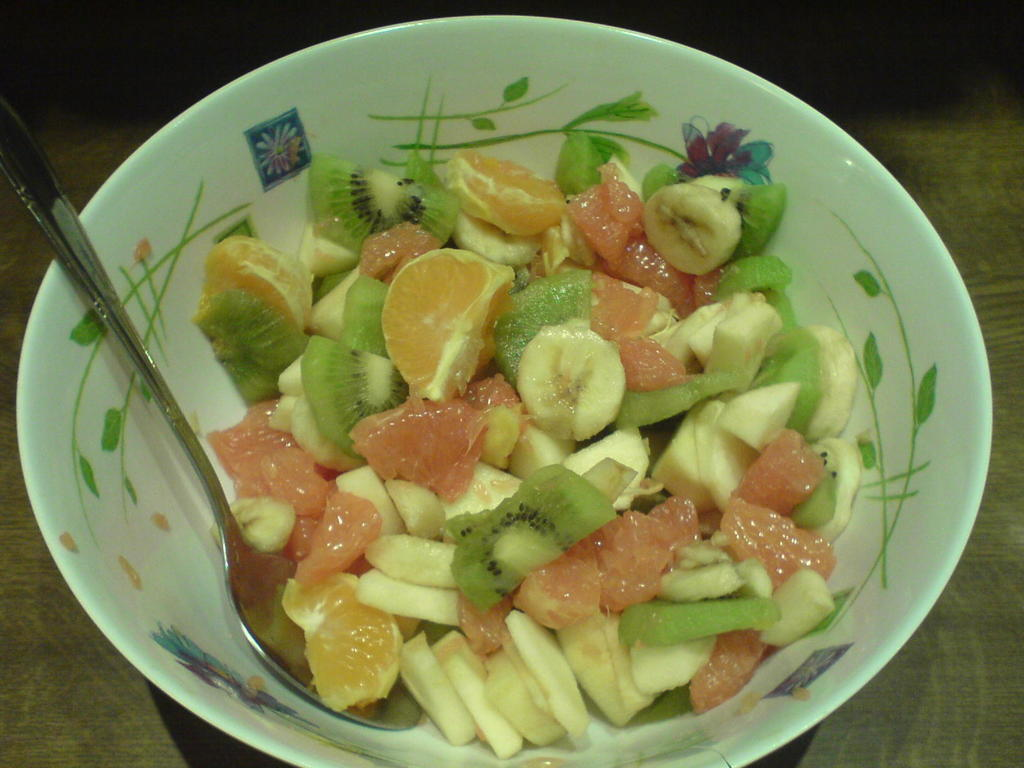salad: (116, 65, 893, 746)
